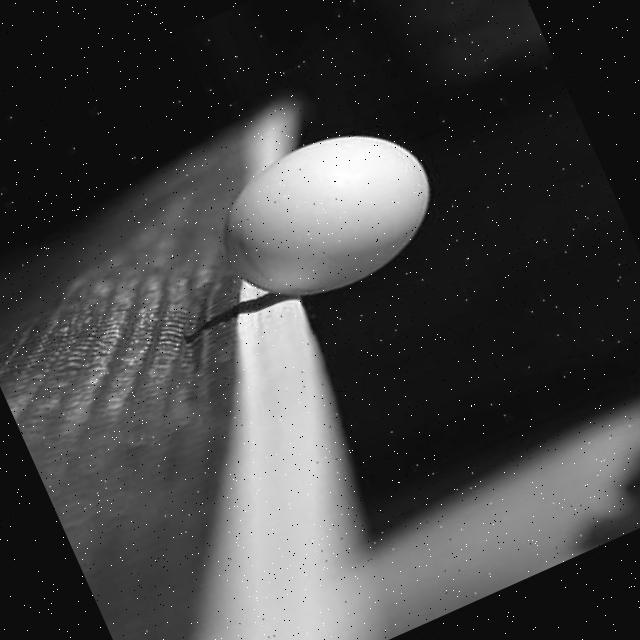ping-pong-ball: (197, 105, 454, 326)
